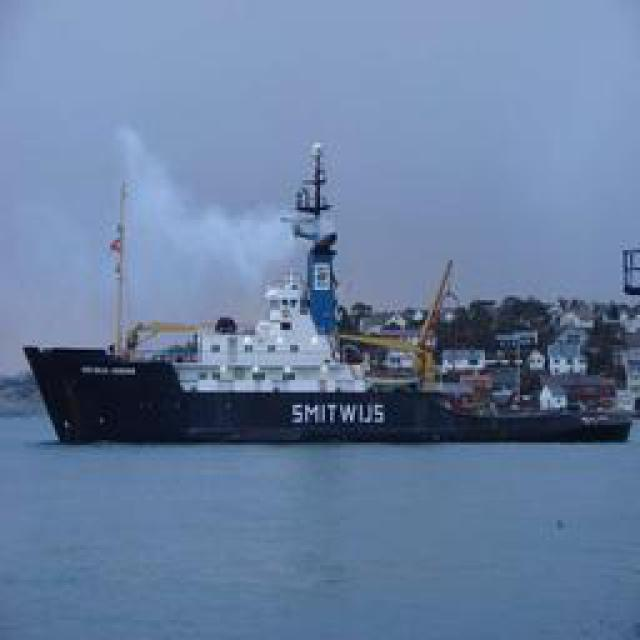Ship: (19, 129, 614, 444)
